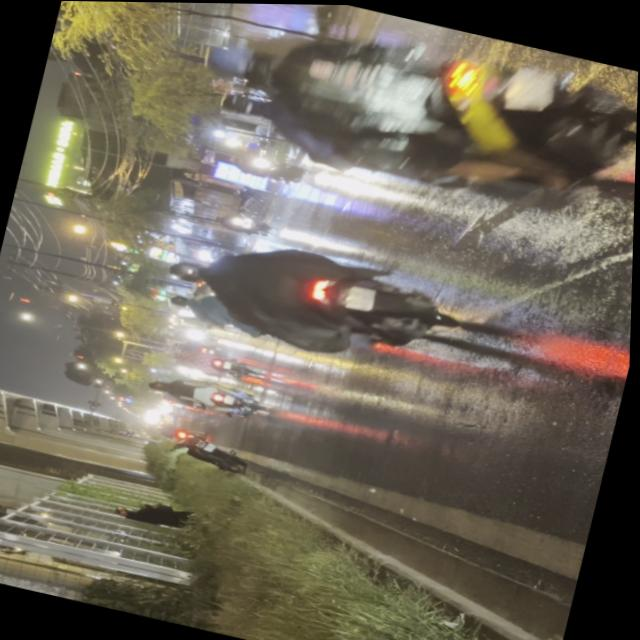helmet: (201, 33, 278, 87), (165, 252, 214, 284)
licenseplate: (175, 2, 640, 248), (150, 212, 480, 381)
nohelmet: (502, 58, 557, 113), (344, 280, 376, 309)
